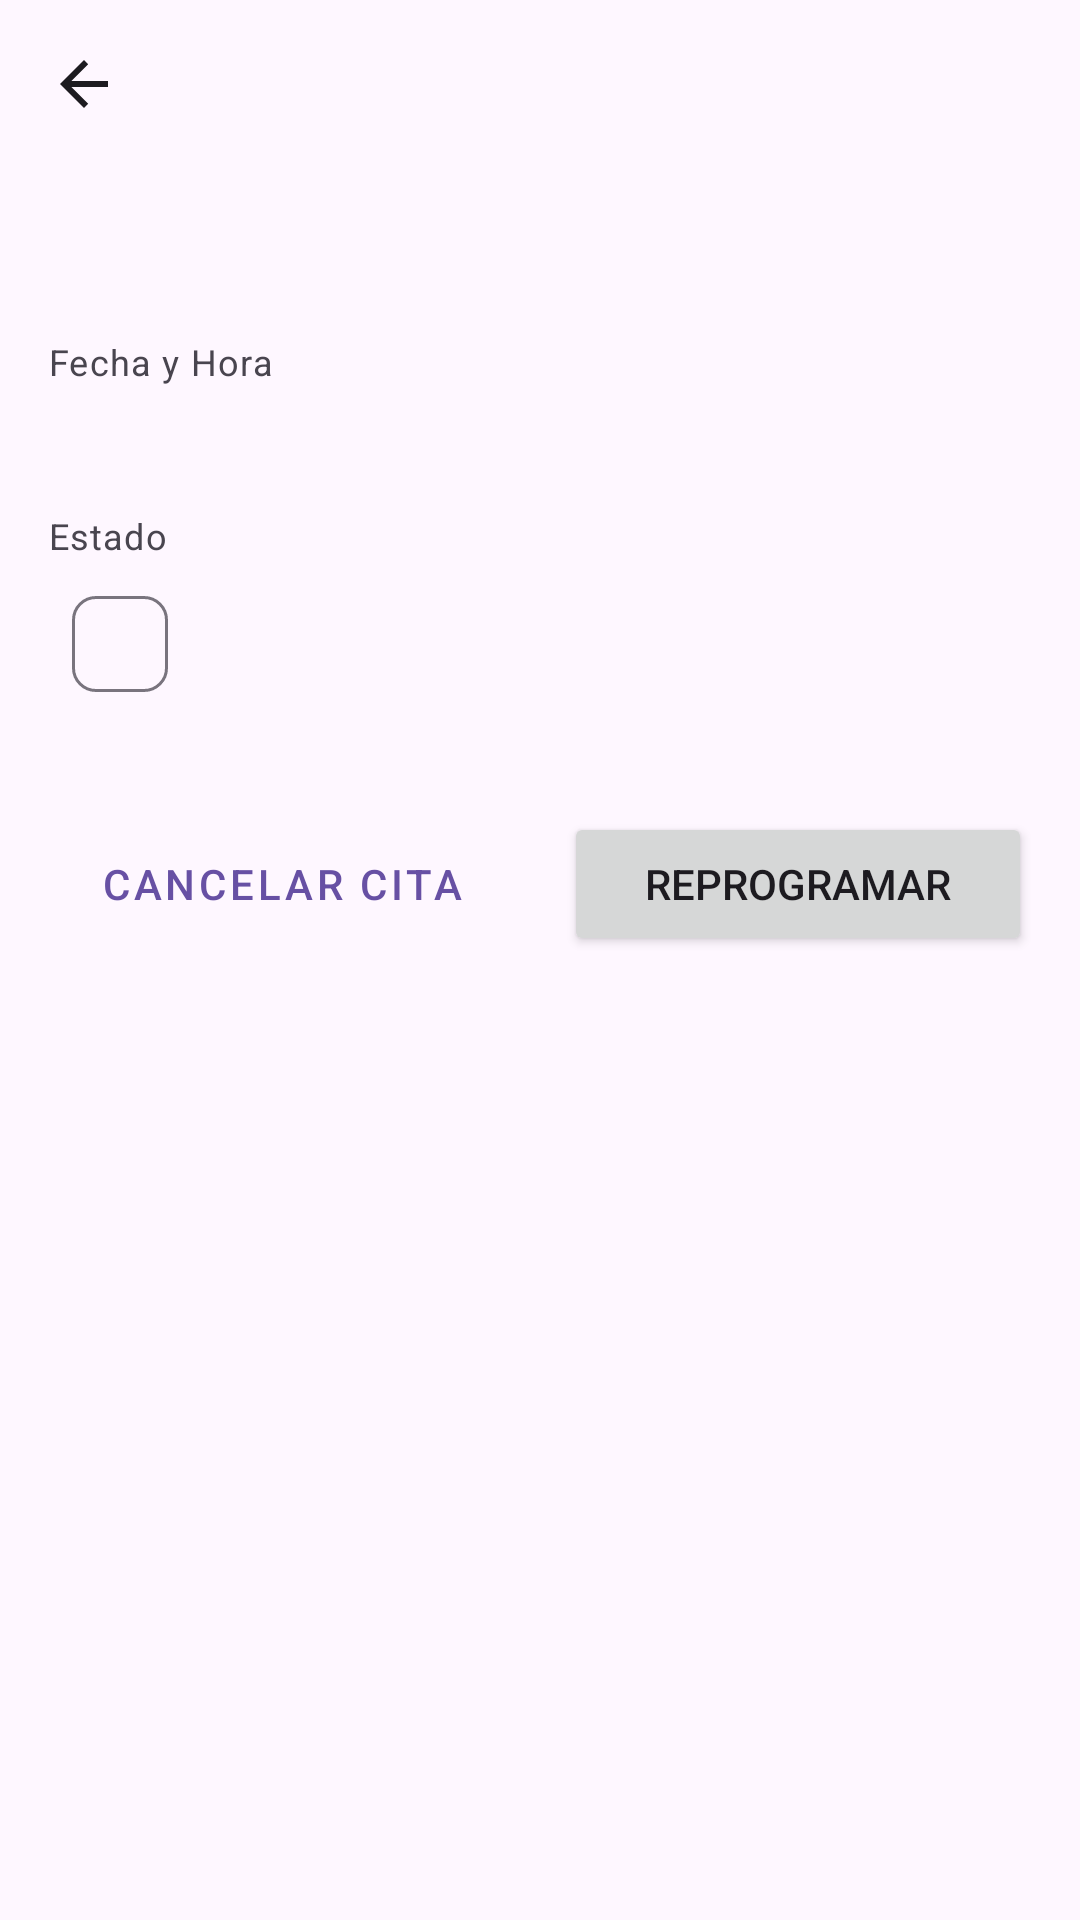

Screen size 1080x1920. Icon name, then its box in pixels as box=[x1, y1, x2, y2]:
ab back: box=[60, 60, 108, 108]
